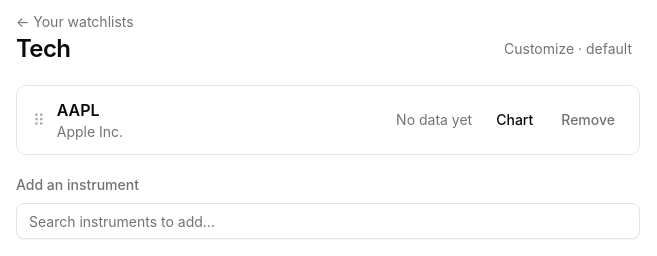
WatchlistDetailPage › removes an item without requiring a manual reload
Expected: the text "AAPL" is shown, [57, 98, 100, 122]
Click the button "Remove": (588, 120) [549, 104, 627, 136]
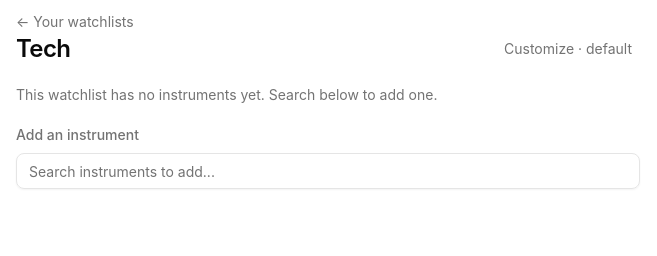
Expected: the text "AAPL" is gone
